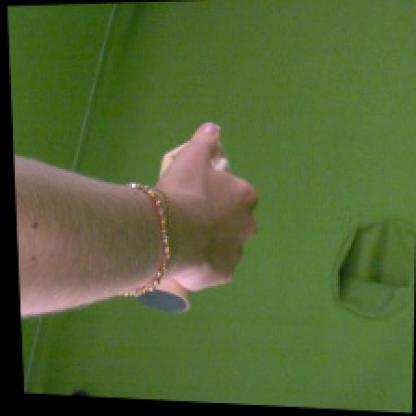Hand: (158, 122, 261, 290)
